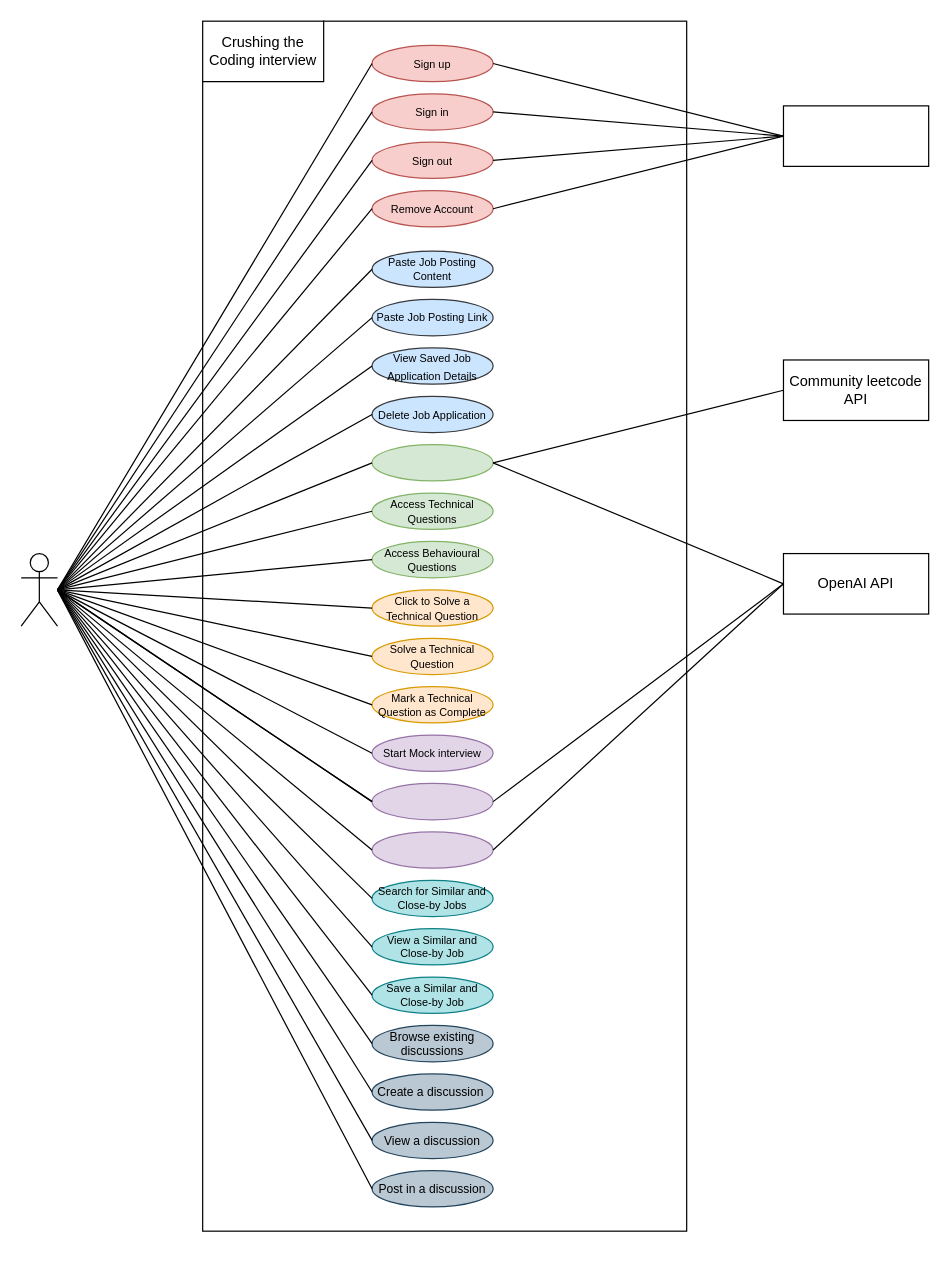
Some shapes in this 950 by 1262 pixel diagram are drawn without their labels. The shapes that lost their labels are listed below. From the top down, each one's box as (x1, y1, x2, y2) in pixels, then its label:
(782, 105, 929, 166): Google Authentication API
(371, 443, 493, 481): Generate Questions for a Saved Job
(20, 552, 57, 626): User
(371, 782, 493, 820): Answer Behavioural questions
(371, 831, 493, 868): End/Finish a Mock Interview
